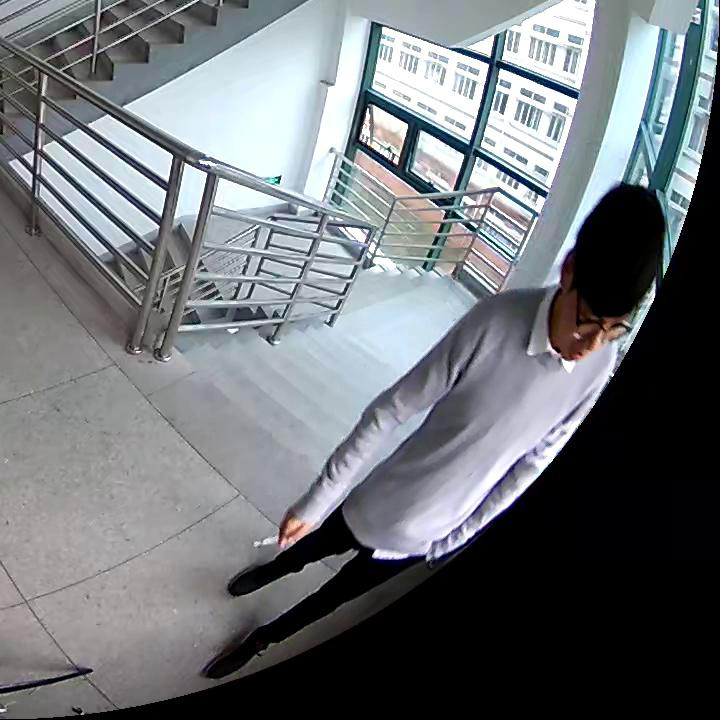handsmoke: (249, 510, 311, 548)
mouthwithoutsmoke: (552, 183, 666, 361)
